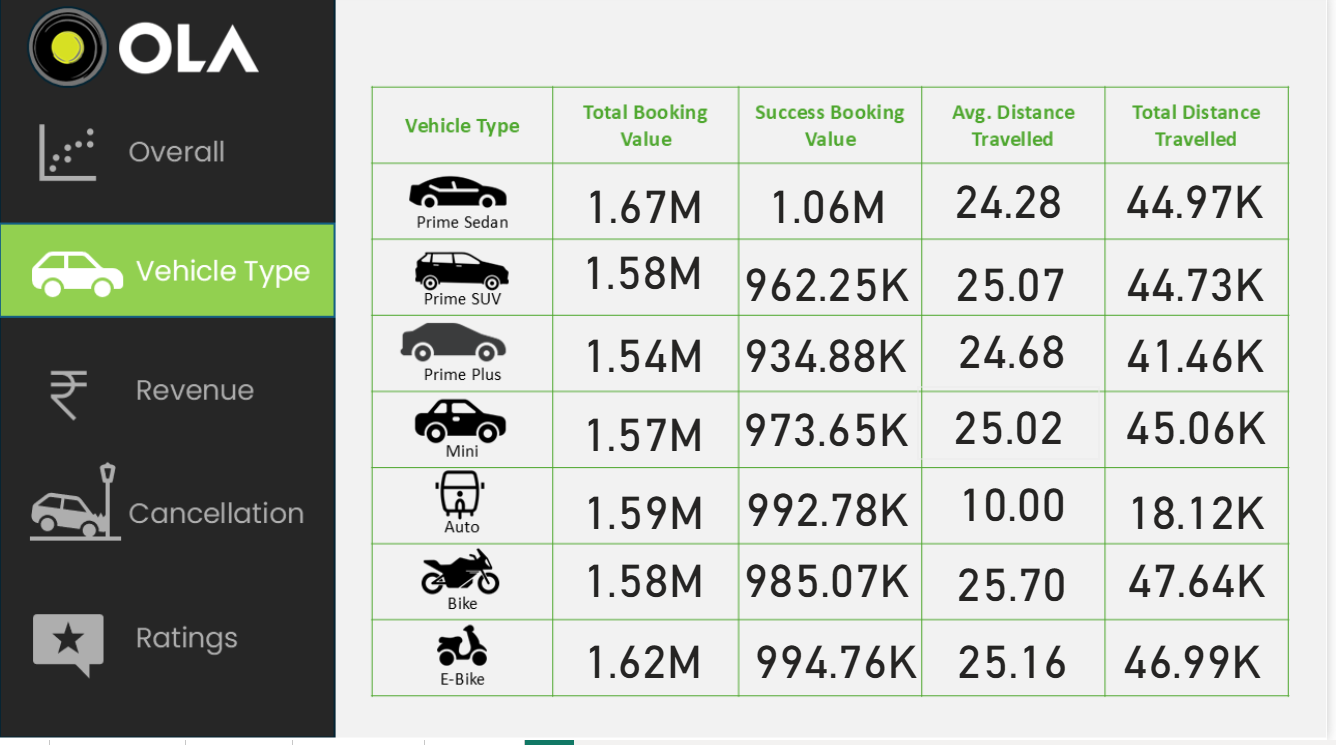

What the dashboard file says about the page in this screenshot:
{"tool":"powerbi","page":{"name":"Vehical Type","canvas":[1280,720],"ordinal":1},"visuals":[{"type":"actionButton","box":[0,218.4,323.3,91.7],"z":0},{"type":"actionButton","box":[0,340.2,323.3,90.5],"z":1000},{"type":"actionButton","box":[0,340.2,323.3,90.5],"z":2000},{"type":"actionButton","box":[0,441.6,323.3,109.8],"z":3000},{"type":"actionButton","box":[10,451.6,323.3,109.8],"z":4000},{"type":"actionButton","box":[0,588.7,323.3,85.7],"z":5000},{"type":"card","fields":{"Values":["Sum(July.Booking_Value)"]},"box":[533.2,166.5,176.1,68.8],"z":6000},{"type":"card","fields":{"Values":["Sum(July.Booking_Value)"]},"box":[532.4,230.5,175.6,68.6],"z":7000},{"type":"card","fields":{"Values":["Sum(July.Booking_Value)"]},"box":[532.4,310.1,177,68.6],"z":8000},{"type":"card","fields":{"Values":["Sum(July.Booking_Value)"]},"box":[532.4,385.6,177,68.6],"z":9000},{"type":"card","fields":{"Values":["Sum(July.Booking_Value)"]},"box":[533.8,461.1,175.6,70],"z":10000},{"type":"card","fields":{"Values":["Sum(July.Booking_Value)"]},"box":[533.8,526.9,175.6,68.6],"z":11000},{"type":"card","fields":{"Values":["Sum(July.Booking_Value)"]},"box":[532.4,605.1,177,68.6],"z":12000},{"type":"card","fields":{"Values":["Sum(July.Booking_Value)"]},"box":[710.8,166,175.6,68.6],"z":13000},{"type":"card","fields":{"Values":["Sum(July.Booking_Value)"]},"box":[709.4,241.5,177,68.6],"z":14000},{"type":"card","fields":{"Values":["Sum(July.Booking_Value)"]},"box":[708.1,310.1,177,68.6],"z":15000},{"type":"card","fields":{"Values":["Sum(July.Booking_Value)"]},"box":[709.4,381.5,175.6,70],"z":16000},{"type":"card","fields":{"Values":["Sum(July.Booking_Value)"]},"box":[710.8,458.3,175.6,68.6],"z":17000},{"type":"card","fields":{"Values":["Sum(July.Booking_Value)"]},"box":[709.4,526.9,177,68.6],"z":18000},{"type":"card","fields":{"Values":["Sum(July.Booking_Value)"]},"box":[719,605.1,175.6,68.6],"z":19000},{"type":"card","fields":{"Values":["Avg(July.Ride_Distance)"]},"box":[885.1,161.9,175.6,68.6],"z":20000},{"type":"card","fields":{"Values":["Avg(July.Ride_Distance)"]},"box":[886.5,241.5,177,68.6],"z":21000},{"type":"card","fields":{"Values":["Avg(July.Ride_Distance)"]},"box":[887.8,306,177,68.6],"z":22000},{"type":"card","fields":{"Values":["Avg(July.Ride_Distance)"]},"box":[885.1,378.7,175.6,70],"z":23000},{"type":"card","fields":{"Values":["Avg(July.Ride_Distance)"]},"box":[889.2,454.2,175.6,68.6],"z":24000},{"type":"card","fields":{"Values":["Avg(July.Ride_Distance)"]},"box":[887.8,531,177,68.6],"z":25000},{"type":"card","fields":{"Values":["Avg(July.Ride_Distance)"]},"box":[889.2,605.1,175.6,68.6],"z":26000},{"type":"card","fields":{"Values":["Sum(July.Ride_Distance)"]},"box":[1064.8,161.9,175.6,68.6],"z":27000},{"type":"card","fields":{"Values":["Sum(July.Ride_Distance)"]},"box":[1064.8,241.5,177,68.6],"z":28000},{"type":"card","fields":{"Values":["Sum(July.Ride_Distance)"]},"box":[1064.8,310.1,177,68.6],"z":29000},{"type":"card","fields":{"Values":["Sum(July.Ride_Distance)"]},"box":[1066.2,378.7,175.6,70],"z":30000},{"type":"card","fields":{"Values":["Sum(July.Ride_Distance)"]},"box":[1066.2,462.4,175.6,68.6],"z":31000},{"type":"card","fields":{"Values":["Sum(July.Ride_Distance)"]},"box":[1066.2,526.9,177,68.6],"z":32000},{"type":"card","fields":{"Values":["Sum(July.Ride_Distance)"]},"box":[1063.5,605.1,175.6,68.6],"z":33000}]}

Visuals, with their boxes on the page's 1280x720 design canvas (x1, y1, x2, y2). These are canvas units, not pixel positions in the 1336x745 screenshot, which may show the page scaled, cropped or inside an application window:
actionButton: BBox(0, 218, 323, 310)
actionButton: BBox(0, 340, 323, 431)
actionButton: BBox(0, 340, 323, 431)
actionButton: BBox(0, 442, 323, 551)
actionButton: BBox(10, 452, 333, 561)
actionButton: BBox(0, 589, 323, 674)
card - Sum(July.Booking_Value): BBox(533, 166, 709, 235)
card - Sum(July.Booking_Value): BBox(532, 230, 708, 299)
card - Sum(July.Booking_Value): BBox(532, 310, 709, 379)
card - Sum(July.Booking_Value): BBox(532, 386, 709, 454)
card - Sum(July.Booking_Value): BBox(534, 461, 709, 531)
card - Sum(July.Booking_Value): BBox(534, 527, 709, 596)
card - Sum(July.Booking_Value): BBox(532, 605, 709, 674)
card - Sum(July.Booking_Value): BBox(711, 166, 886, 235)
card - Sum(July.Booking_Value): BBox(709, 242, 886, 310)
card - Sum(July.Booking_Value): BBox(708, 310, 885, 379)
card - Sum(July.Booking_Value): BBox(709, 382, 885, 452)
card - Sum(July.Booking_Value): BBox(711, 458, 886, 527)
card - Sum(July.Booking_Value): BBox(709, 527, 886, 596)
card - Sum(July.Booking_Value): BBox(719, 605, 895, 674)
card - Avg(July.Ride_Distance): BBox(885, 162, 1061, 230)
card - Avg(July.Ride_Distance): BBox(886, 242, 1064, 310)
card - Avg(July.Ride_Distance): BBox(888, 306, 1065, 375)
card - Avg(July.Ride_Distance): BBox(885, 379, 1061, 449)
card - Avg(July.Ride_Distance): BBox(889, 454, 1065, 523)
card - Avg(July.Ride_Distance): BBox(888, 531, 1065, 600)
card - Avg(July.Ride_Distance): BBox(889, 605, 1065, 674)
card - Sum(July.Ride_Distance): BBox(1065, 162, 1240, 230)
card - Sum(July.Ride_Distance): BBox(1065, 242, 1242, 310)
card - Sum(July.Ride_Distance): BBox(1065, 310, 1242, 379)
card - Sum(July.Ride_Distance): BBox(1066, 379, 1242, 449)
card - Sum(July.Ride_Distance): BBox(1066, 462, 1242, 531)
card - Sum(July.Ride_Distance): BBox(1066, 527, 1243, 596)
card - Sum(July.Ride_Distance): BBox(1064, 605, 1239, 674)
